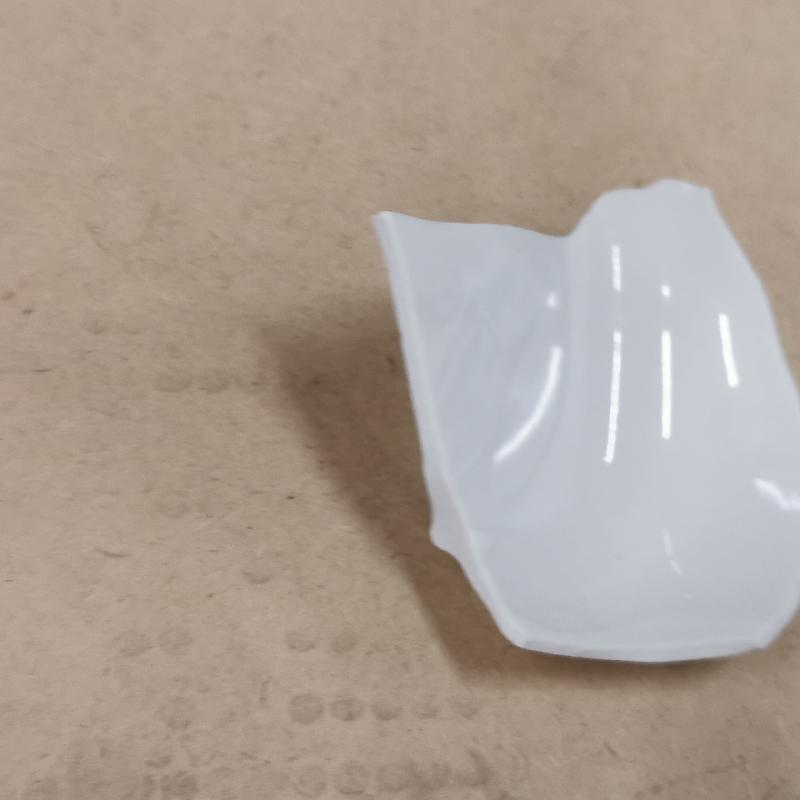ceram: (366, 179, 800, 672)
